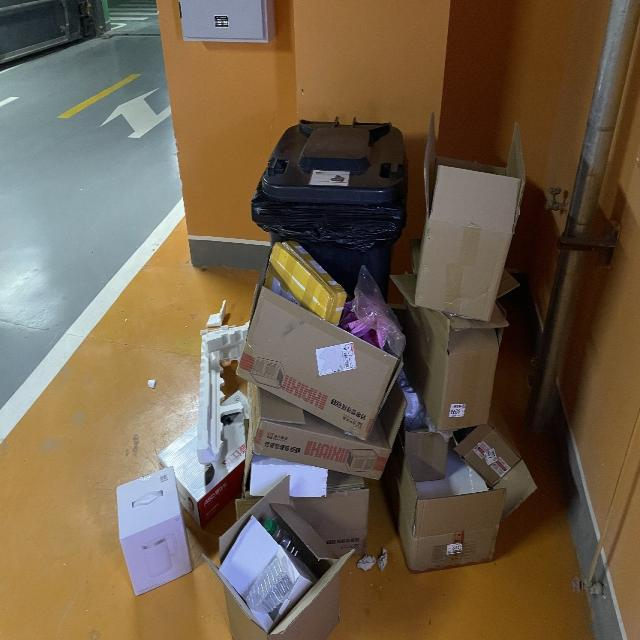garbage: (115, 115, 536, 639)
